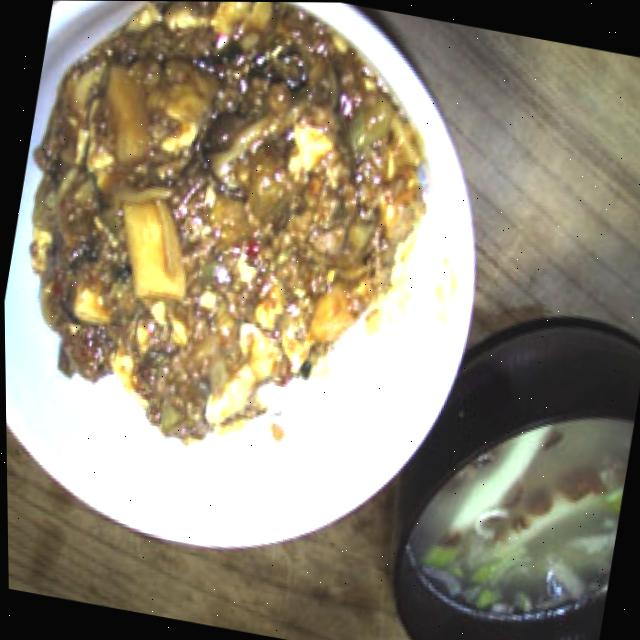豆腐料理: (0, 0, 525, 592)
